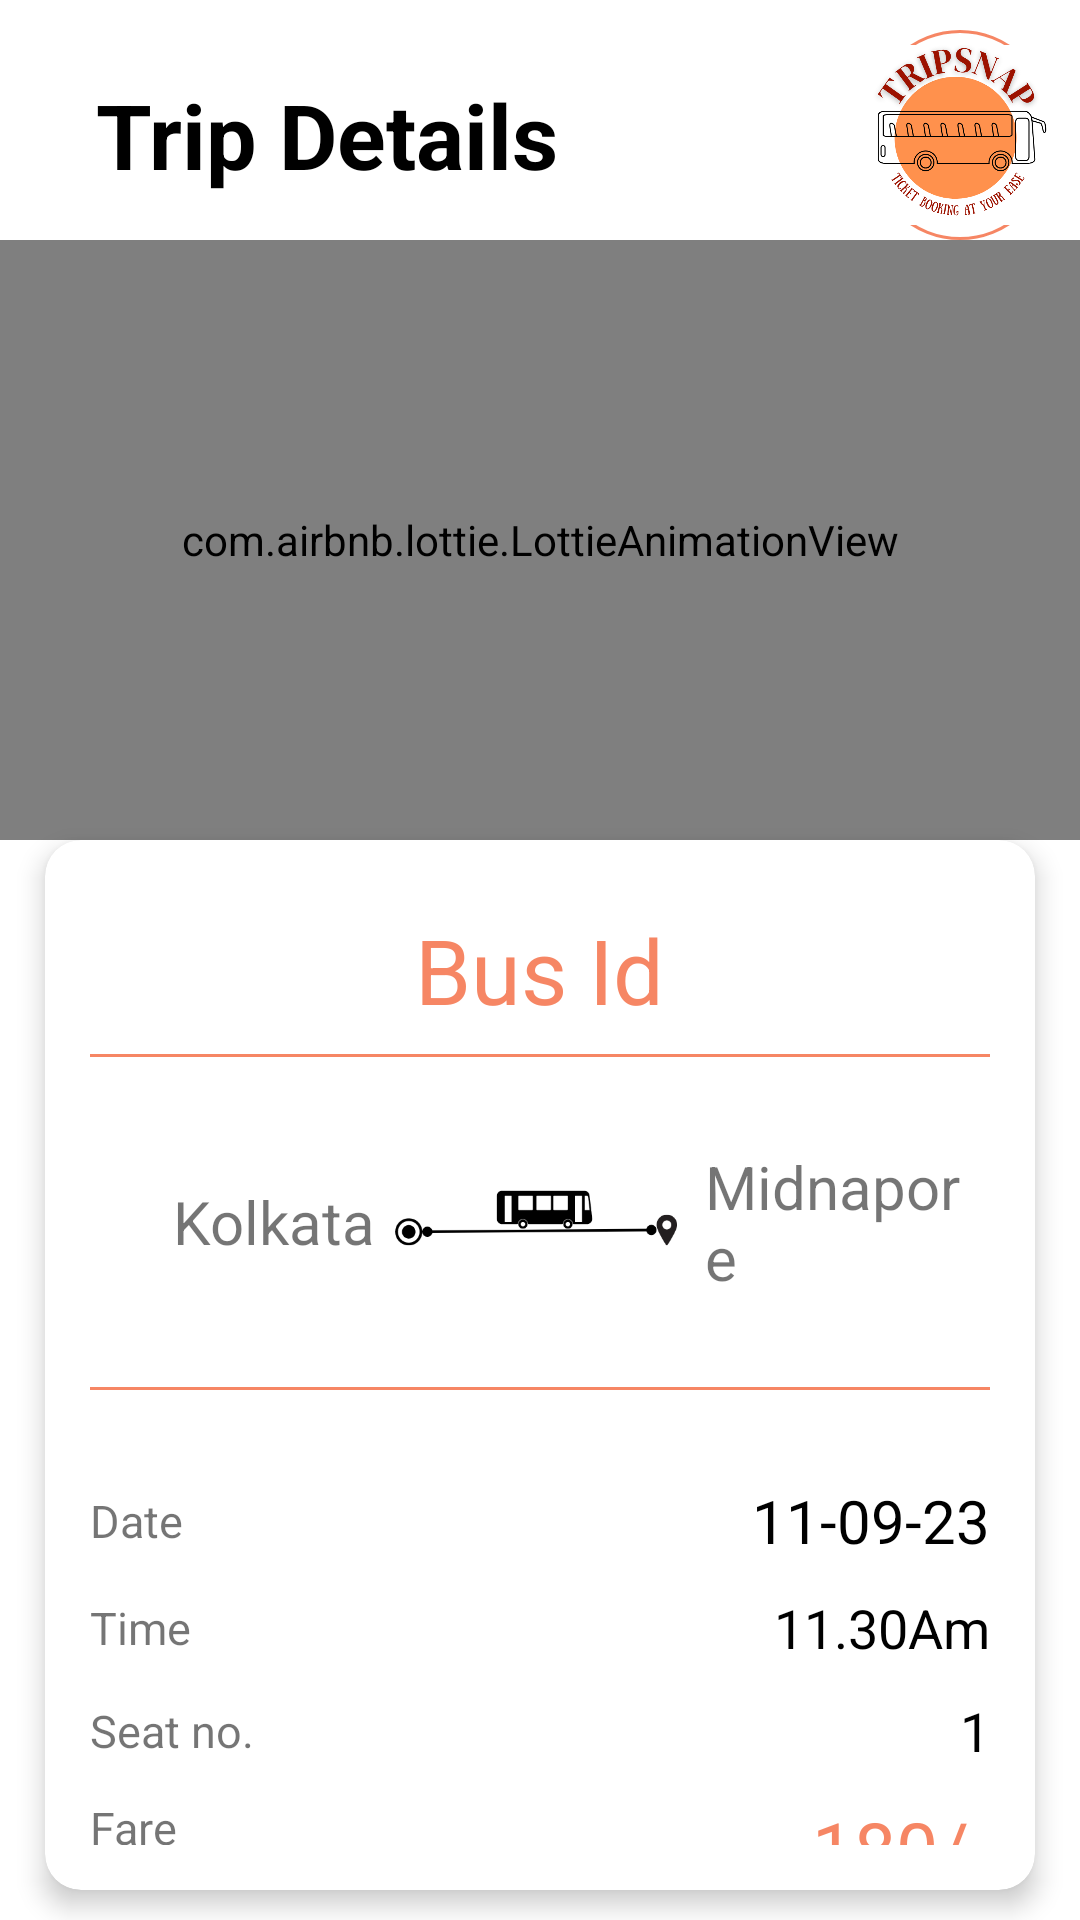

Where icons sit on this 1080*1920 app screen, as [x1, y1, x2, y2]:
src desti: [395, 1190, 677, 1246]
